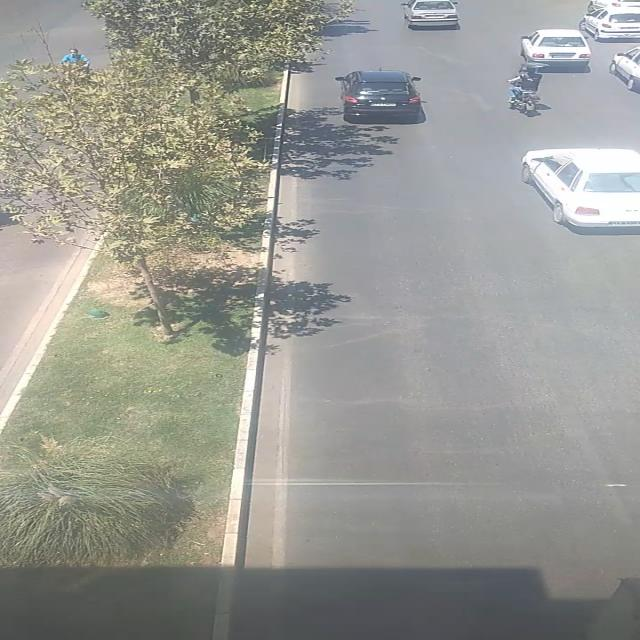car: (515, 146, 640, 233), (332, 69, 426, 119), (512, 26, 592, 68), (577, 5, 640, 42), (605, 45, 640, 96), (402, 1, 460, 31)
motorbike: (498, 60, 548, 118)
